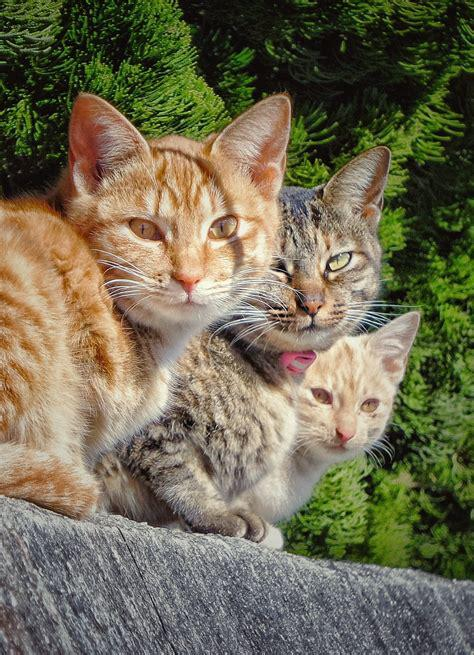cat: (1, 92, 289, 516), (98, 148, 388, 539), (263, 310, 418, 552)
